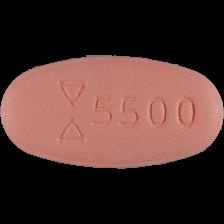42254-071: (0, 0, 224, 224)
